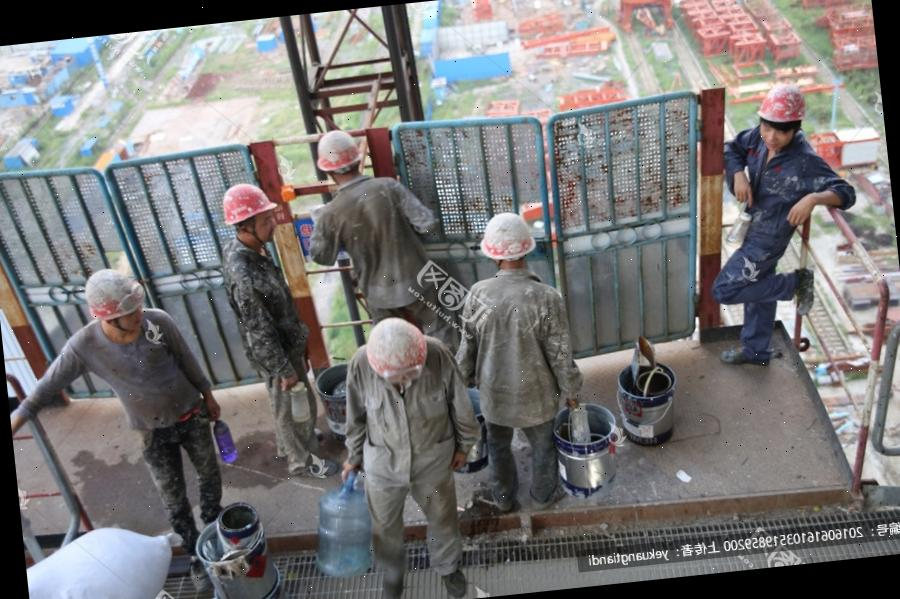helmet: (360, 310, 432, 388), (80, 264, 148, 324), (304, 122, 370, 176), (214, 178, 280, 226), (752, 77, 807, 132)
no_wear: (80, 316, 204, 451), (329, 179, 426, 300), (228, 248, 302, 388), (479, 211, 532, 262)
wear: (27, 524, 187, 599), (726, 139, 818, 258)
